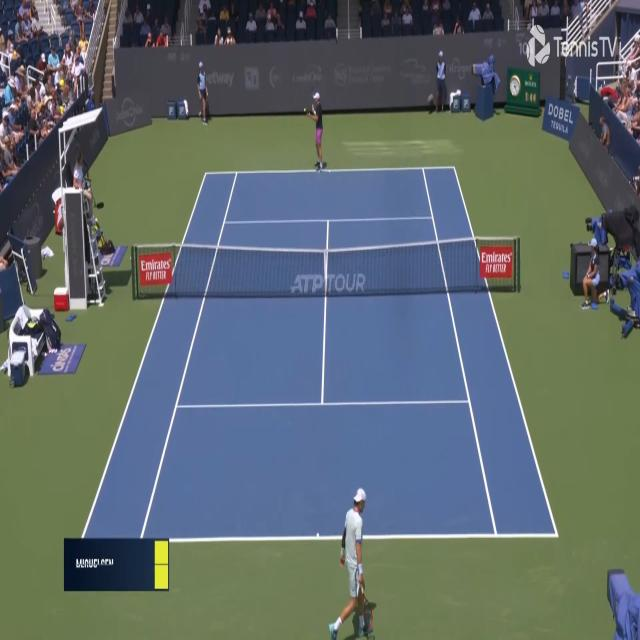tennis-player: (327, 484, 379, 640), (305, 91, 326, 172)
